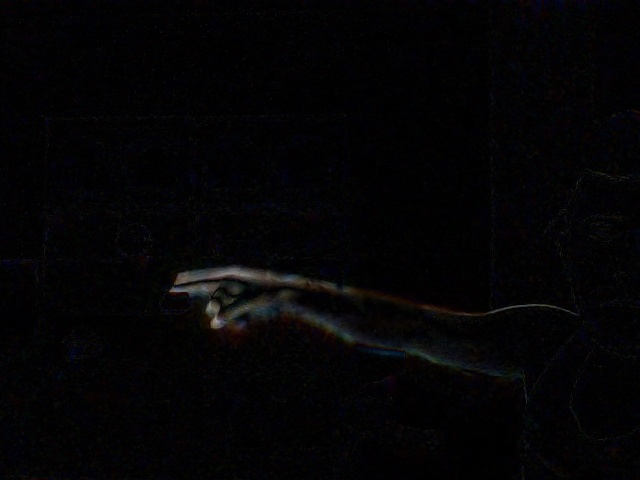hand_po: (165, 259, 292, 339)
